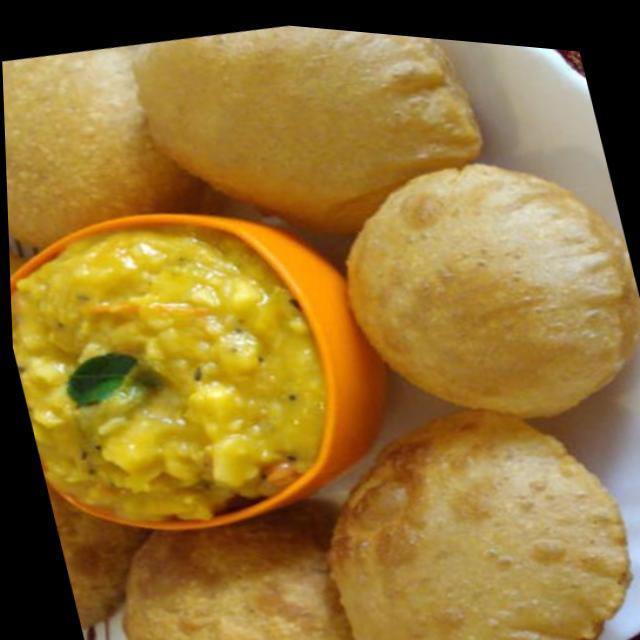DAL: (10, 218, 324, 522)
POORI: (2, 25, 640, 640)
